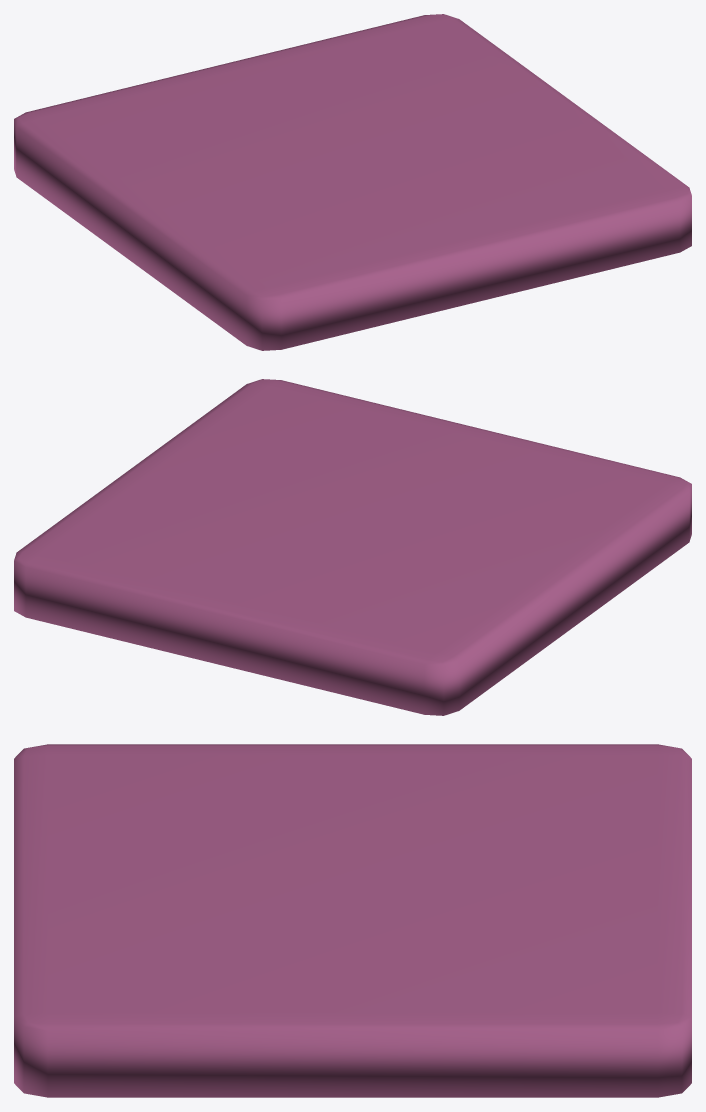
File: cojín.fbx
3 renders of one model, top to bottom at view 1: azimuth 30°, elevation 25°; view 2: azimuth 150°, elevation 25°; view 3: azimuth 270°, elevation 25°, orthographic. The views are drawn at different scales.
Parts seen in each view (by area): view 1: Cube; view 2: Cube; view 3: Cube.
Boxes of the visible parts, x1,y1,x2,y2 form: Cube: (14,14,691,350); Cube: (14,379,691,715); Cube: (14,744,691,1097).
Size of the model in its own units: 1.22 by 0.1478 by 1.22.
